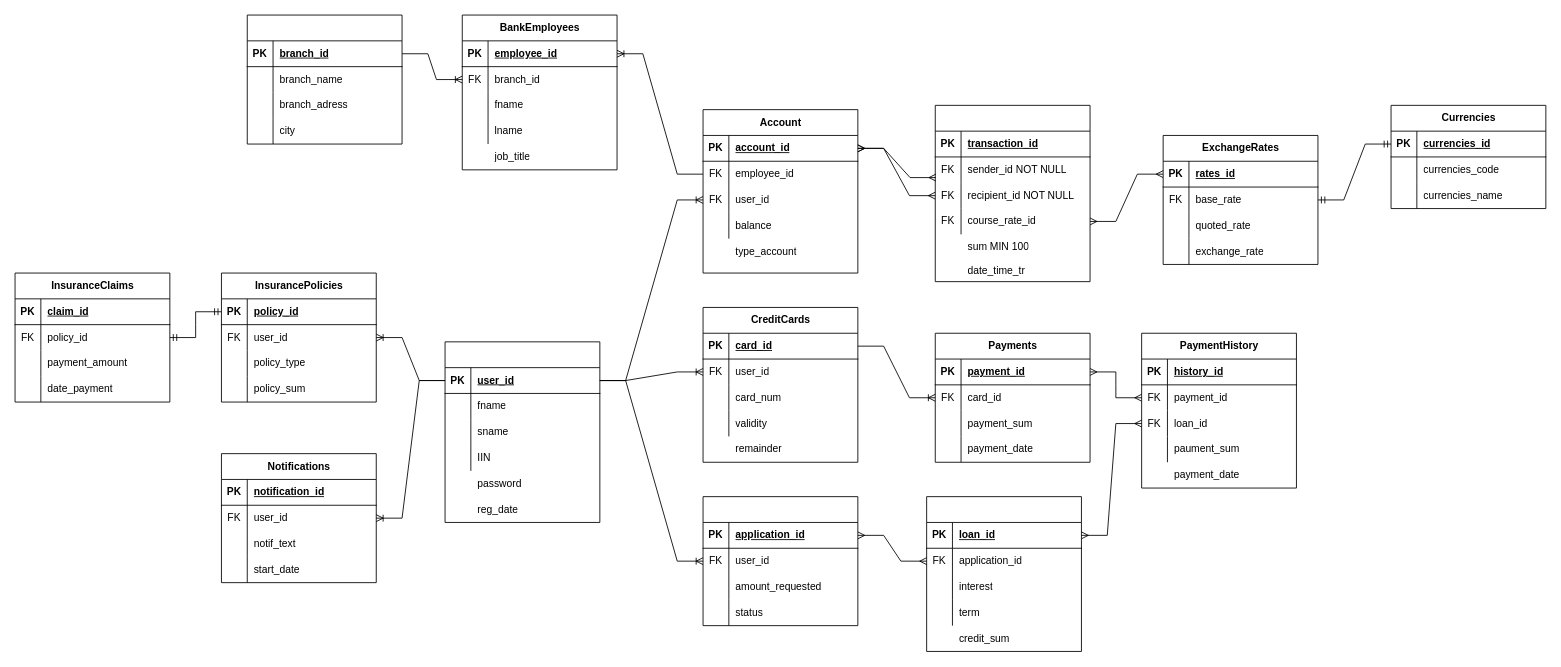
Image size: 1561x667. Some labels were removed from this diagram. The box of each missing label's shape, as (x1, y1, x2, y2) in pixels:
Branches: (246, 14, 402, 144)
LoanApplications: (702, 496, 858, 626)
Loans: (926, 496, 1081, 651)
Transactions: (934, 104, 1090, 282)
Users: (444, 341, 600, 522)
